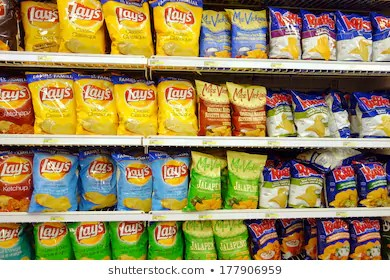lays-med: (24, 155, 82, 214), (76, 71, 123, 133), (32, 72, 75, 133), (158, 1, 202, 54), (122, 77, 160, 135), (58, 1, 101, 52), (153, 152, 189, 211), (112, 1, 146, 60), (119, 154, 156, 206), (83, 147, 115, 207), (163, 81, 198, 133), (25, 1, 58, 51), (36, 218, 69, 260), (114, 217, 149, 256), (151, 222, 184, 259), (76, 221, 107, 259)
